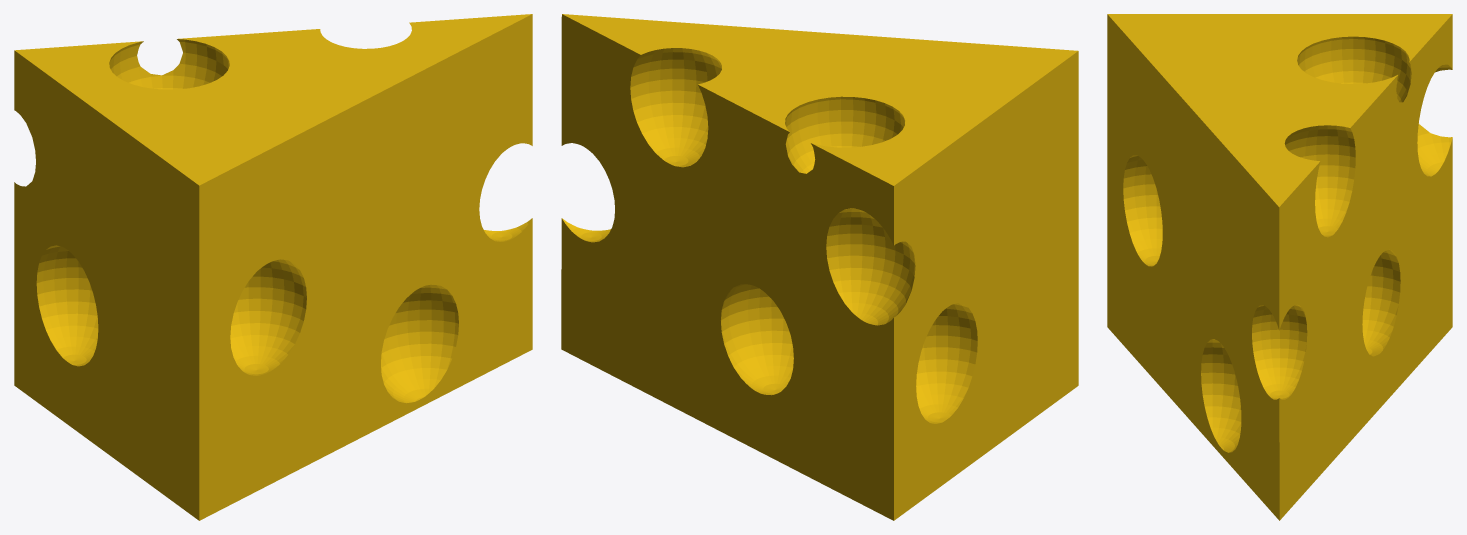
File: cheese.glb
3 views of the same model, side by side, from view 1: azimuth 30°, elevation 25°; view 2: azimuth 150°, elevation 25°; view 3: azimuth 270°, elevation 25° (orthographic). The views are drawn at different scales.
Visible parts, largest first — view 1: Cube; view 2: Cube; view 3: Cube.
Part boxes in pixels (x1,y1,x2,y2): Cube: (14, 14, 532, 520); Cube: (561, 14, 1078, 520); Cube: (1107, 14, 1452, 520).
Bounding box in the file's own units: 2.66 × 2 × 2.
